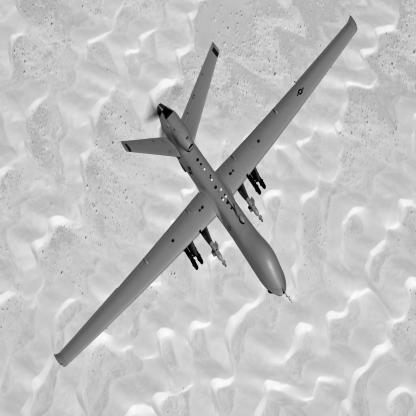MQ9: (54, 17, 358, 368)
